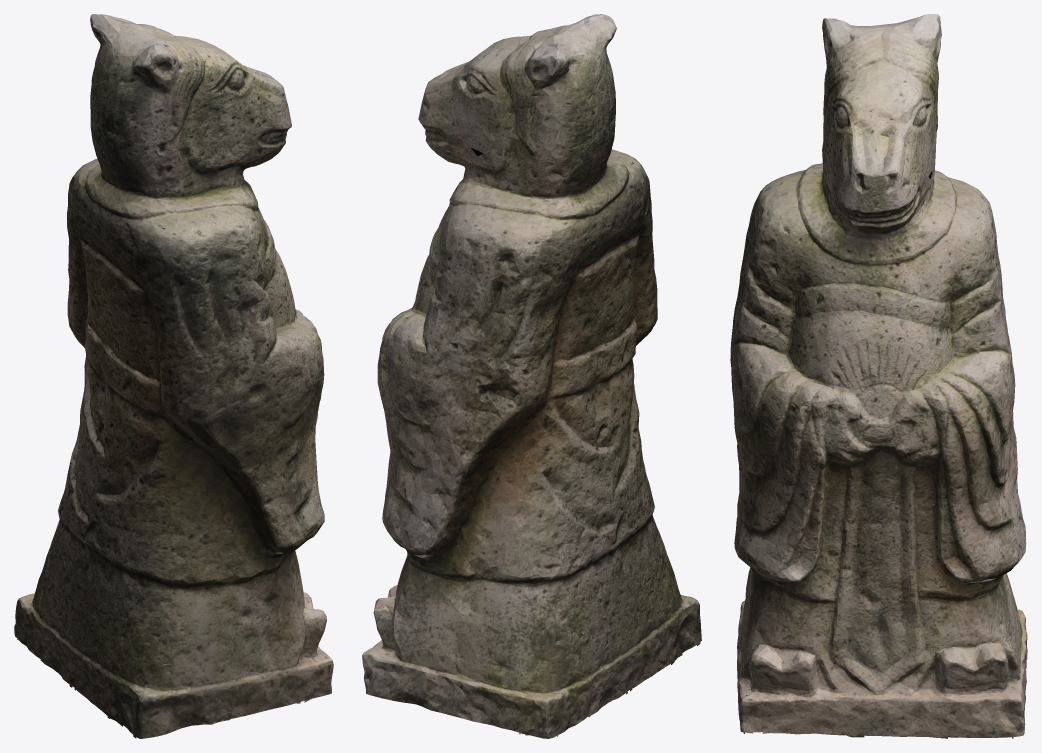
Rendered from stone_horse.glb.
3 renders of one model, left to right at view 1: azimuth 30°, elevation 25°; view 2: azimuth 150°, elevation 25°; view 3: azimuth 270°, elevation 25°, orthographic.
Visible parts, largest first — view 1: LOD0; view 2: LOD0; view 3: LOD0.
Boxes of the visible parts, x1,y1,x2,y2 form: LOD0: (14,14,333,738); LOD0: (362,14,701,738); LOD0: (730,14,1027,738).
Size of what is drawn, in the model's own units: 11.27 by 31.85 by 13.16.
1 material, 1 textured.
